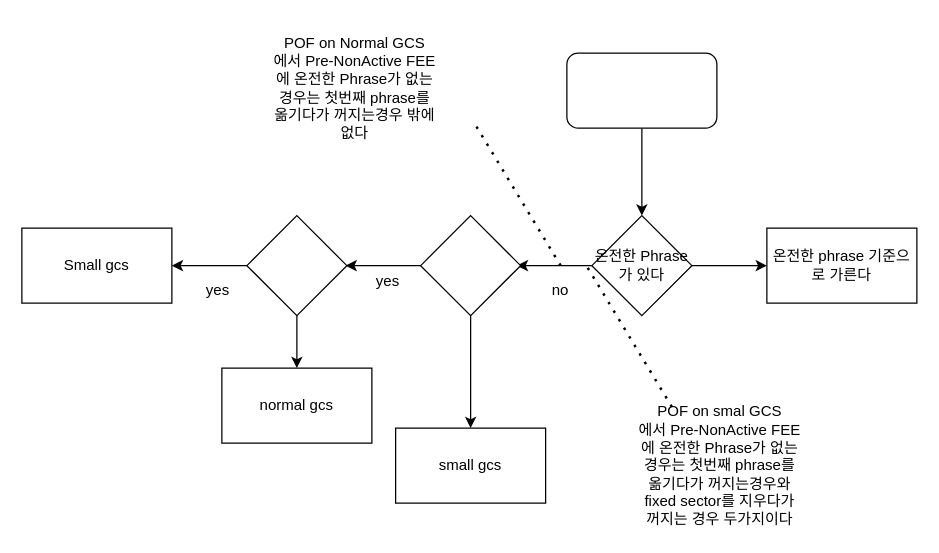
Image size: 939x553. Some labels were removed from this diagram. Here are the shapes that lost their labels. From the top down, the box of each, then its label:
(566, 52, 717, 128): Pre-NonActive FEE에서 온전한 Phrase를 찾아낸다
(246, 214, 347, 316): pre-NONactive FEE의 첫번째PHRASE가 ERASE
(419, 214, 521, 316): pre-active FEE의 모든 phrase가 온전함
